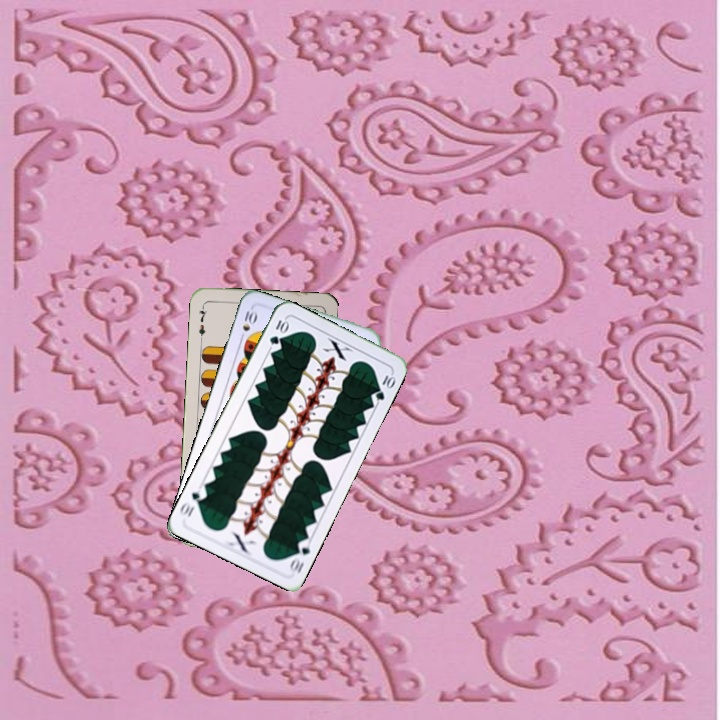E7: (194, 301, 209, 342)
G10: (286, 535, 313, 576), (265, 315, 291, 348)
S10: (236, 304, 260, 344)
